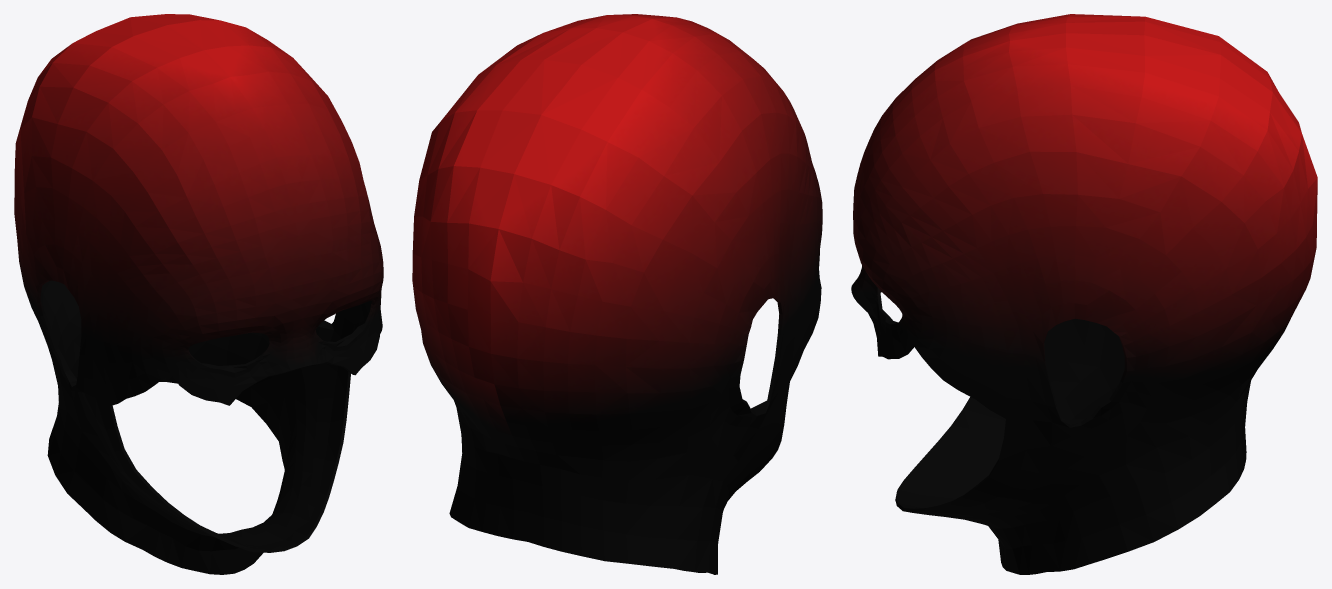
File: mhw_culturalibre_hero_mask_1.glb
3 views of the same model, side by side, from view 1: azimuth 30°, elevation 25°; view 2: azimuth 150°, elevation 25°; view 3: azimuth 270°, elevation 25° (orthographic). The views are drawn at different scales.
Parts seen in each view (by area): view 1: mhw_culturalibre_hero_mask_1; view 2: mhw_culturalibre_hero_mask_1; view 3: mhw_culturalibre_hero_mask_1.
Boxes of the visible parts, box(x1,y1,x2,y2) form: mhw_culturalibre_hero_mask_1: box(14, 14, 383, 574); mhw_culturalibre_hero_mask_1: box(412, 14, 822, 574); mhw_culturalibre_hero_mask_1: box(851, 14, 1317, 574).
Size of the model in its own units: 0.1581 by 0.2726 by 0.2178.
Materials: 1 (1 with a texture image).
